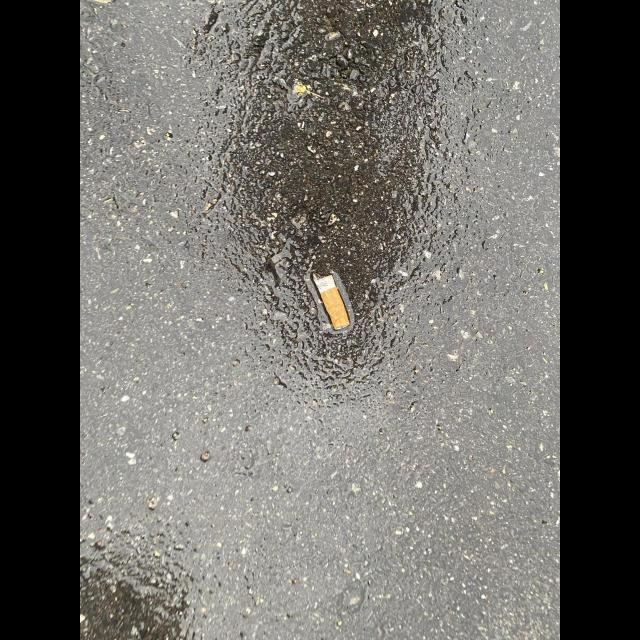cigarette: (310, 271, 350, 330)
